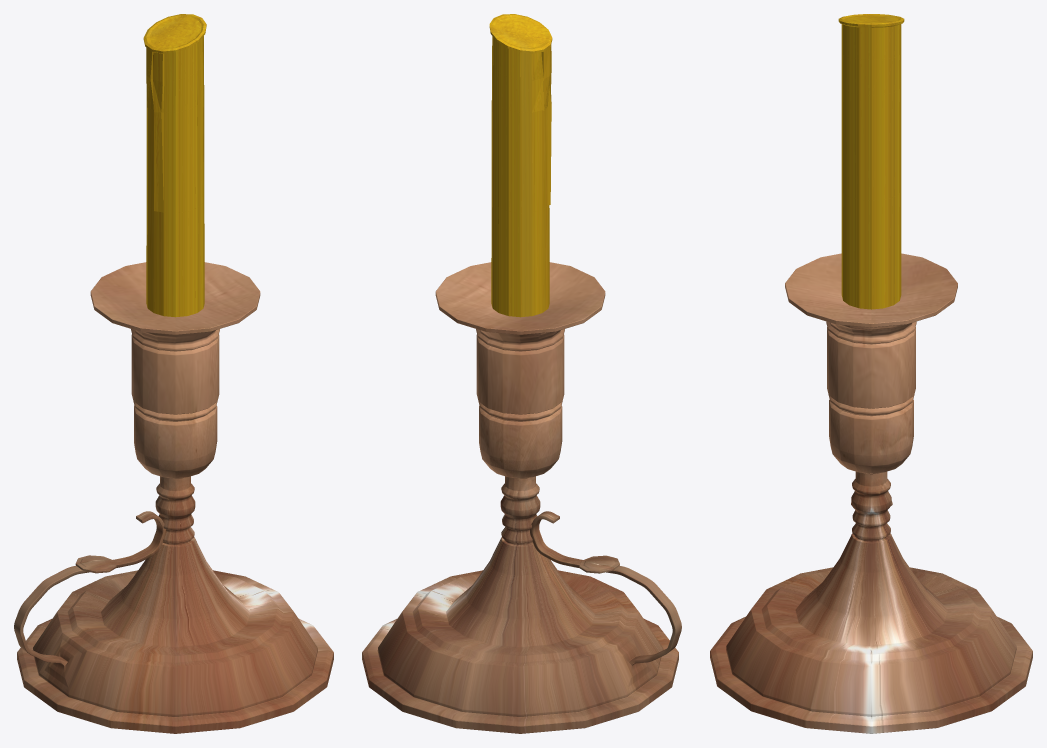
File: Candle_.fbx
The picture shows the model from 3 angles, left to right: view 1: azimuth 30°, elevation 25°; view 2: azimuth 150°, elevation 25°; view 3: azimuth 270°, elevation 25°; orthographic projection.
Parts seen in each view (by area): view 1: Base, Candle; view 2: Base, Candle; view 3: Base, Candle.
Part boxes in pixels (x1,y1,x2,y2): Base: [14, 262, 333, 733]; Candle: [143, 14, 206, 317]; Base: [362, 262, 681, 733]; Candle: [489, 14, 552, 317]; Base: [710, 253, 1032, 733]; Candle: [838, 14, 904, 309].
Bounding box in the file's own units: 8.02 × 16.61 × 7.43.
